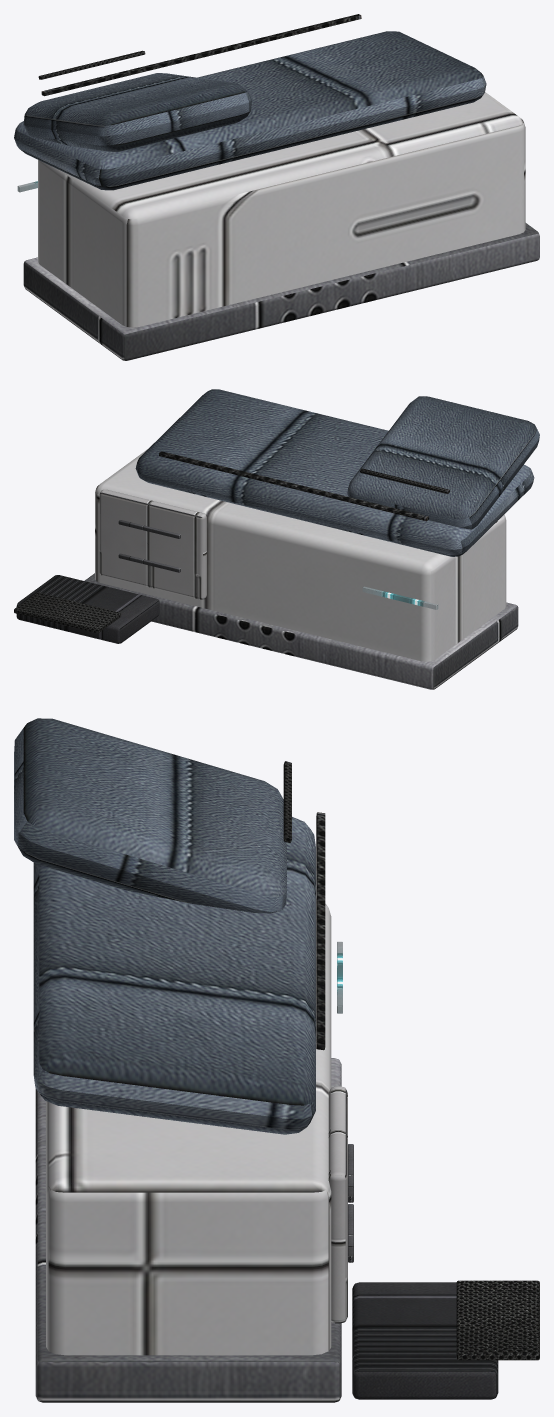
Rendered from hp_l4_cineclinic_exam_table.glb.
3 renders of one model, top to bottom at view 1: azimuth 30°, elevation 25°; view 2: azimuth 150°, elevation 25°; view 3: azimuth 270°, elevation 25°, orthographic. The views are drawn at different scales.
Parts seen in each view (by area): view 1: cabinet_base, blue_reclined_pad, dark_toe_kick, head_pad, cushion_center_stitch, head_pad_lower_stitch; view 2: cabinet_base, blue_reclined_pad, head_pad, dark_toe_kick, drawer_bank, black_step, step_tread_inset, cushion_center_stitch, head_pad_lower_stitch, side_cyan_service_line; view 3: cabinet_base, blue_reclined_pad, head_pad, dark_toe_kick, black_step, step_tread_inset, drawer_bank, cushion_center_stitch.
Part boxes in pixels (x1=…): cabinet_base: x1=38, y1=92, x2=525, y2=327; blue_reclined_pad: x1=14, y1=31, x2=486, y2=190; dark_toe_kick: x1=23, y1=223, x2=539, y2=360; head_pad: x1=23, y1=73, x2=251, y2=151; cushion_center_stitch: x1=41, y1=14, x2=361, y2=96; head_pad_lower_stitch: x1=38, y1=50, x2=145, y2=79; cabinet_base: x1=95, y1=449, x2=506, y2=661; blue_reclined_pad: x1=135, y1=389, x2=534, y2=556; head_pad: x1=347, y1=396, x2=539, y2=529; dark_toe_kick: x1=84, y1=573, x2=518, y2=689; drawer_bank: x1=99, y1=489, x2=206, y2=599; black_step: x1=16, y1=575, x2=159, y2=643; step_tread_inset: x1=14, y1=592, x2=121, y2=633; cushion_center_stitch: x1=159, y1=451, x2=428, y2=521; head_pad_lower_stitch: x1=360, y1=468, x2=449, y2=493; side_cyan_service_line: x1=362, y1=586, x2=438, y2=609; cabinet_base: x1=46, y1=899, x2=331, y2=1355; blue_reclined_pad: x1=33, y1=817, x2=315, y2=1134; head_pad: x1=14, y1=718, x2=286, y2=913; dark_toe_kick: x1=35, y1=1058, x2=341, y2=1402; black_step: x1=352, y1=1282, x2=498, y2=1399; step_tread_inset: x1=456, y1=1280, x2=539, y2=1360; drawer_bank: x1=328, y1=1086, x2=347, y2=1323; cushion_center_stitch: x1=316, y1=812, x2=325, y2=1050.
Bounding box in the file's own units: 2.33 × 1.19 × 1.51.
Materials: 7 (7 with a texture image).
